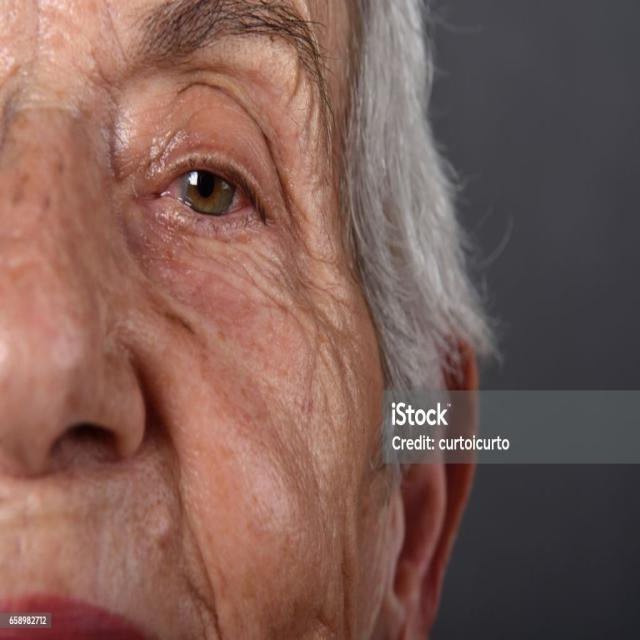Dry-Skin: (18, 0, 115, 407), (177, 226, 352, 451)
